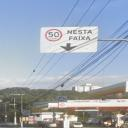speed_limit_50: (44, 28, 63, 41)
